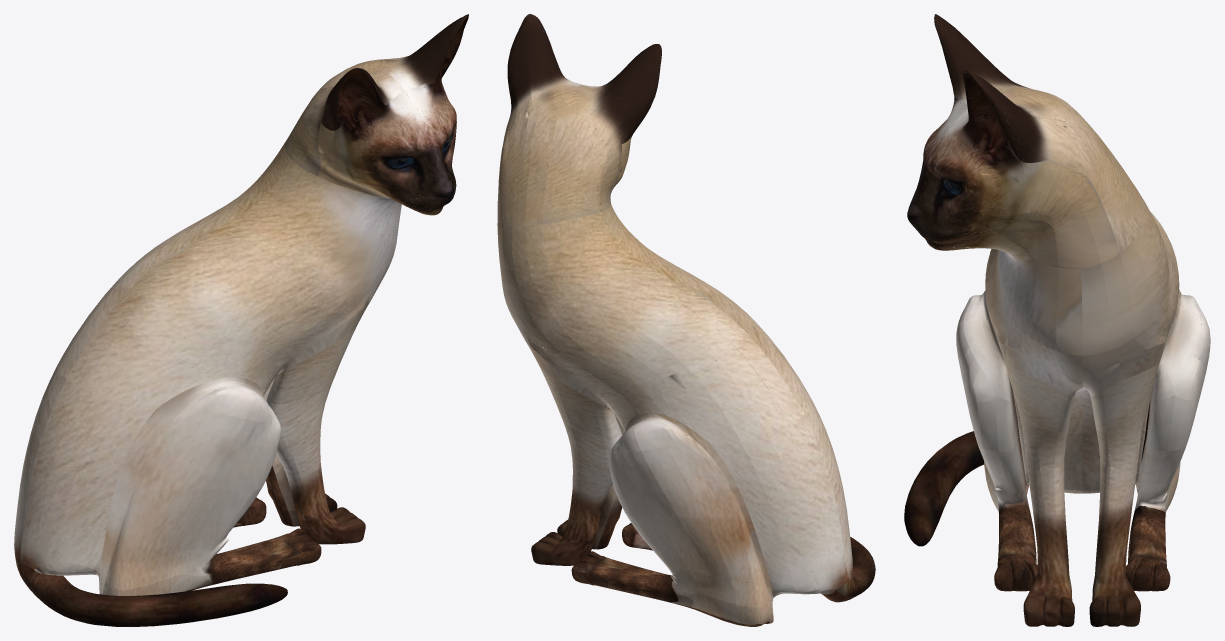
Rendered from Balinese.glb.
3 renders of one model, left to right at view 1: azimuth 30°, elevation 25°; view 2: azimuth 150°, elevation 25°; view 3: azimuth 270°, elevation 25°, orthographic. The views are drawn at different scales.
Parts seen in each view (by area): view 1: Cylinder.001; view 2: Cylinder.001; view 3: Cylinder.001.
Part boxes in pixels (x1,y1,x2,y2): Cylinder.001: [14, 14, 468, 626]; Cylinder.001: [497, 14, 875, 626]; Cylinder.001: [904, 14, 1210, 626].
Size of the model in its own units: 3.22 by 3.98 by 1.84.
Materials: 1 (1 with a texture image).
